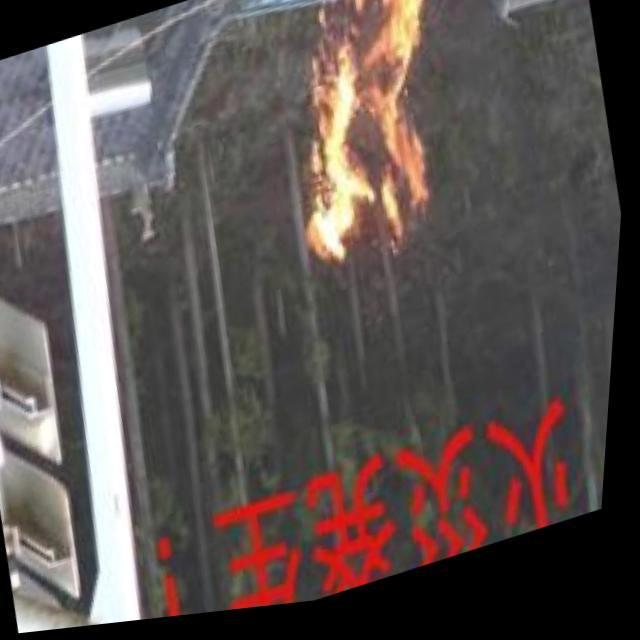fire: (241, 0, 473, 288)
